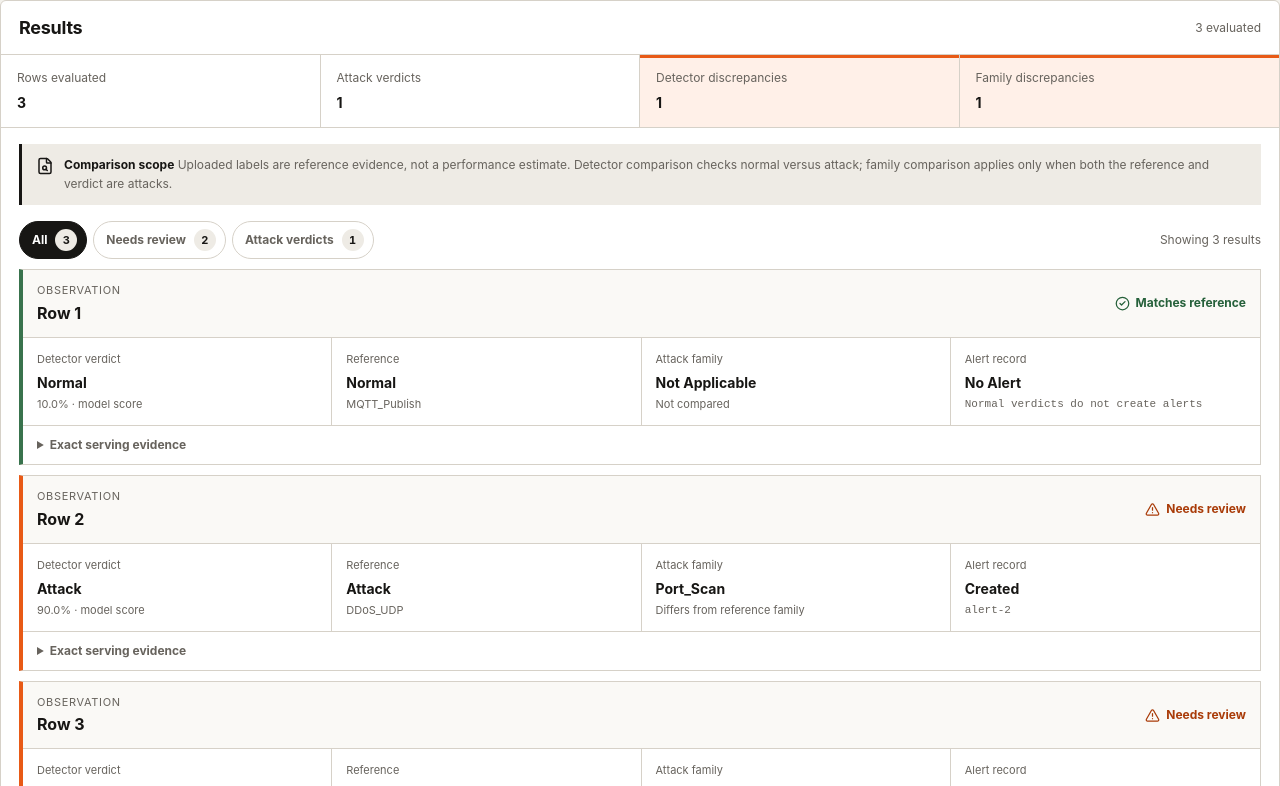
Test: ObservationResults › separates detector and family discrepancies and filters review work
Expected: the text "1" below "Family discrepancies" is shown, [976, 94, 982, 111]
Click the button "Needs review 2".
click(160, 240)  # box [93, 221, 226, 259]
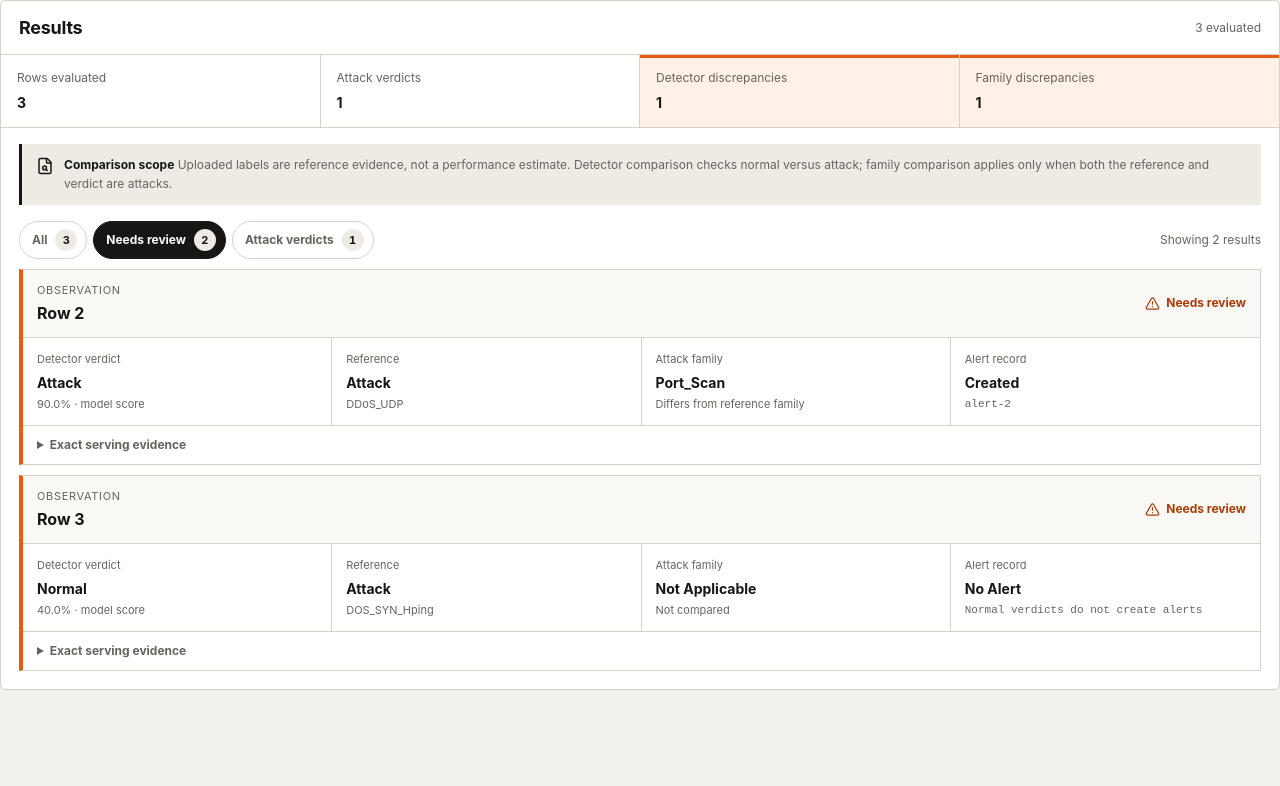
Expected: the text "Showing 2 results" is shown, [1160, 231, 1261, 249]
Expected: the text "Needs review" is shown 2 times, [1145, 294, 1246, 312]; [1145, 500, 1246, 518]
Expected: the text "Row 1" is gone
